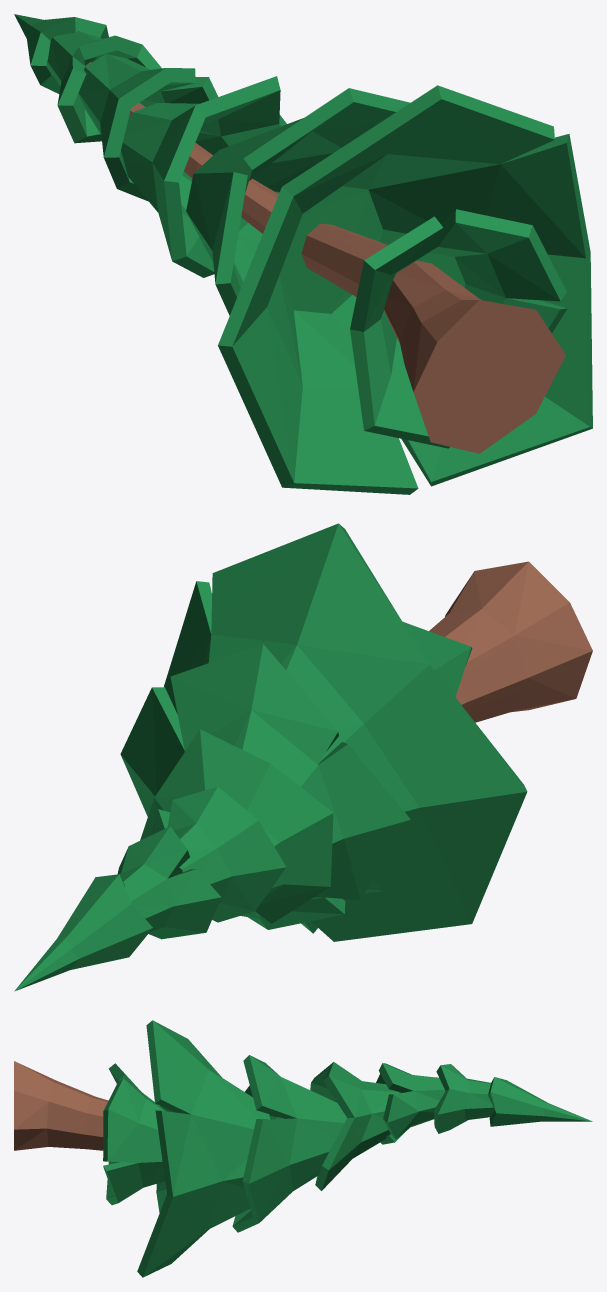
Rendered from Pine2.fbx.
The picture shows the model from 3 angles, top to bottom: view 1: azimuth 30°, elevation 25°; view 2: azimuth 150°, elevation 25°; view 3: azimuth 270°, elevation 25°; orthographic projection. The views are drawn at different scales.
Visible parts, largest first — view 1: Pine2; view 2: Pine2; view 3: Pine2.
Boxes of the visible parts, left/top/right/bottom form: Pine2: left=14, top=14, right=592, bottom=494; Pine2: left=14, top=523, right=592, bottom=991; Pine2: left=14, top=1020, right=592, bottom=1277.
Bounding box in the file's own units: 304 × 322 × 696.
